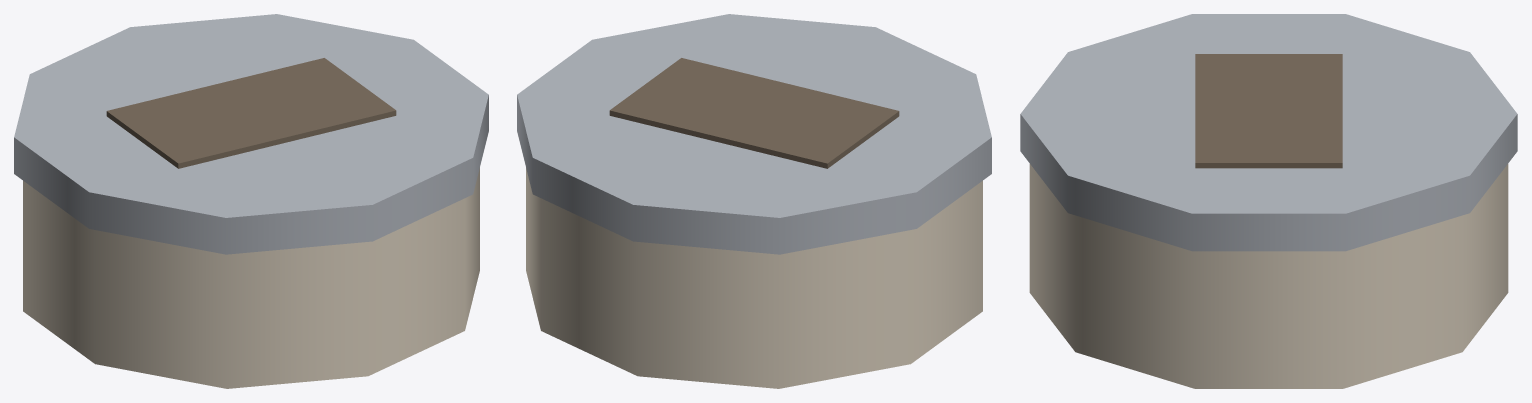
File: SV_MP_SKU_05_v01_lod2.glb
The picture shows the model from 3 angles, left to right: view 1: azimuth 30°, elevation 25°; view 2: azimuth 150°, elevation 25°; view 3: azimuth 270°, elevation 25°; orthographic projection. The views are drawn at different scales.
Visible parts, largest first — view 1: mproto_SV_MP_SKU_05_v01; view 2: mproto_SV_MP_SKU_05_v01; view 3: mproto_SV_MP_SKU_05_v01.
Part boxes in pixels (x1,y1,x2,y2): mproto_SV_MP_SKU_05_v01: [14, 14, 488, 388]; mproto_SV_MP_SKU_05_v01: [517, 14, 991, 388]; mproto_SV_MP_SKU_05_v01: [1020, 14, 1517, 388].
Size of the model in its own units: 0.0514 by 0.0221 by 0.054.
